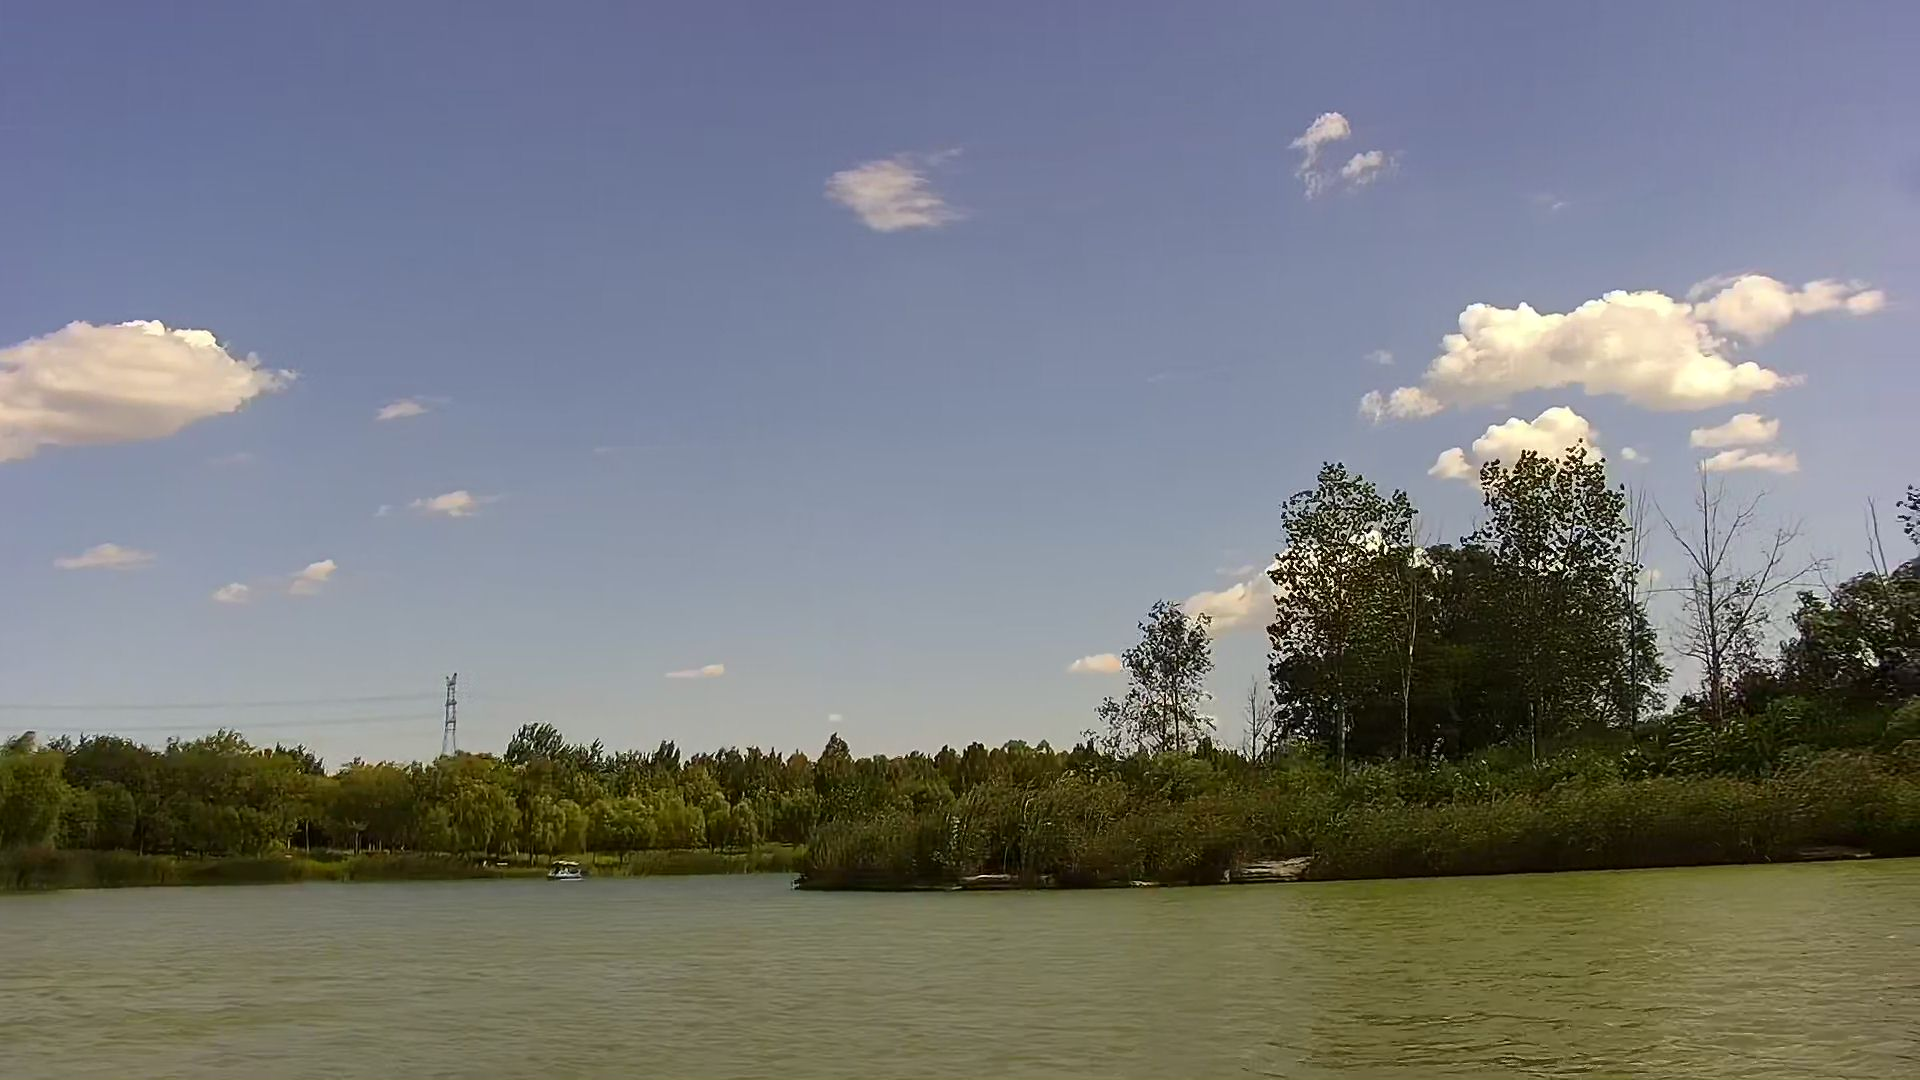boat: (546, 855, 579, 880)
